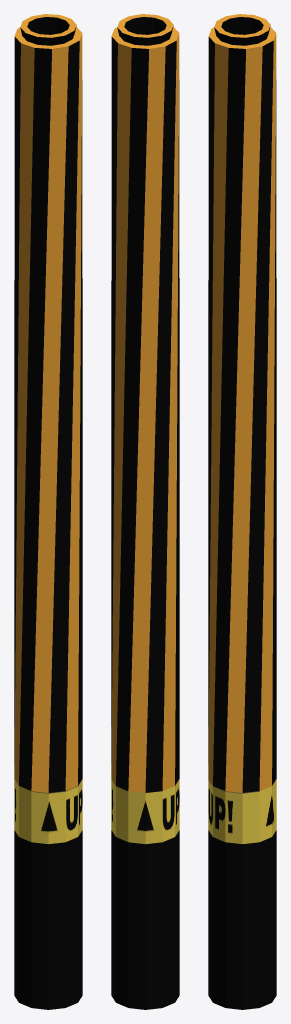
The model's file is RomanCandle_DummyRomanCandle.fbx.
3 renders of one model, left to right at view 1: azimuth 30°, elevation 25°; view 2: azimuth 210°, elevation 25°; view 3: azimuth 270°, elevation 25°, orthographic.
Parts seen in each view (by area): view 1: RomanCandle_DummyRomanCandle; view 2: RomanCandle_DummyRomanCandle; view 3: RomanCandle_DummyRomanCandle.
Boxes of the visible parts, left/top/right/bottom form: RomanCandle_DummyRomanCandle: left=14, top=14, right=82, bottom=1009; RomanCandle_DummyRomanCandle: left=111, top=14, right=179, bottom=1009; RomanCandle_DummyRomanCandle: left=208, top=14, right=276, bottom=1009.
Size of the model in its own units: 0.04 by 0.6269 by 0.04.
